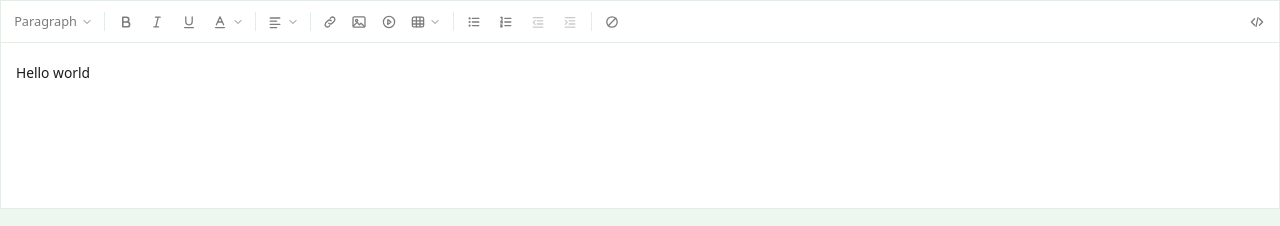
Scenario: RichTextEditor › links › refuses anything else — a script address above all
Click the button named "Insert link".
click(330, 22)  # box [317, 7, 344, 37]
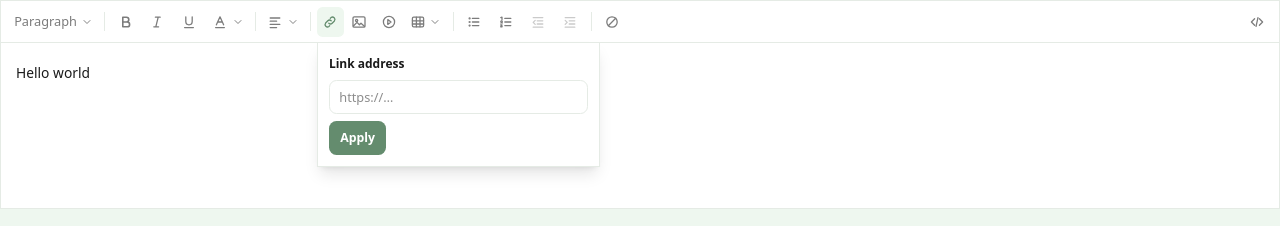
Type "javascript:alert(1)" into the field labelled "Link address".
click(458, 97); type("javascript:alert(1)")  # box [329, 80, 588, 114]
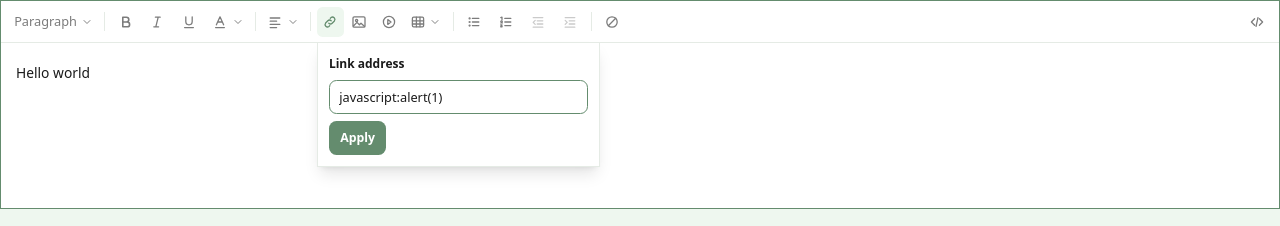
Click the button "Apply".
click(358, 138)  # box [329, 121, 386, 155]
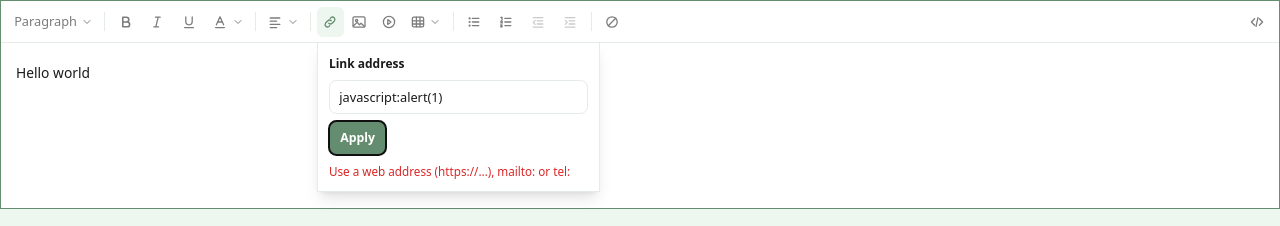
Result: the message shows "https" at [329, 162, 570, 178]
